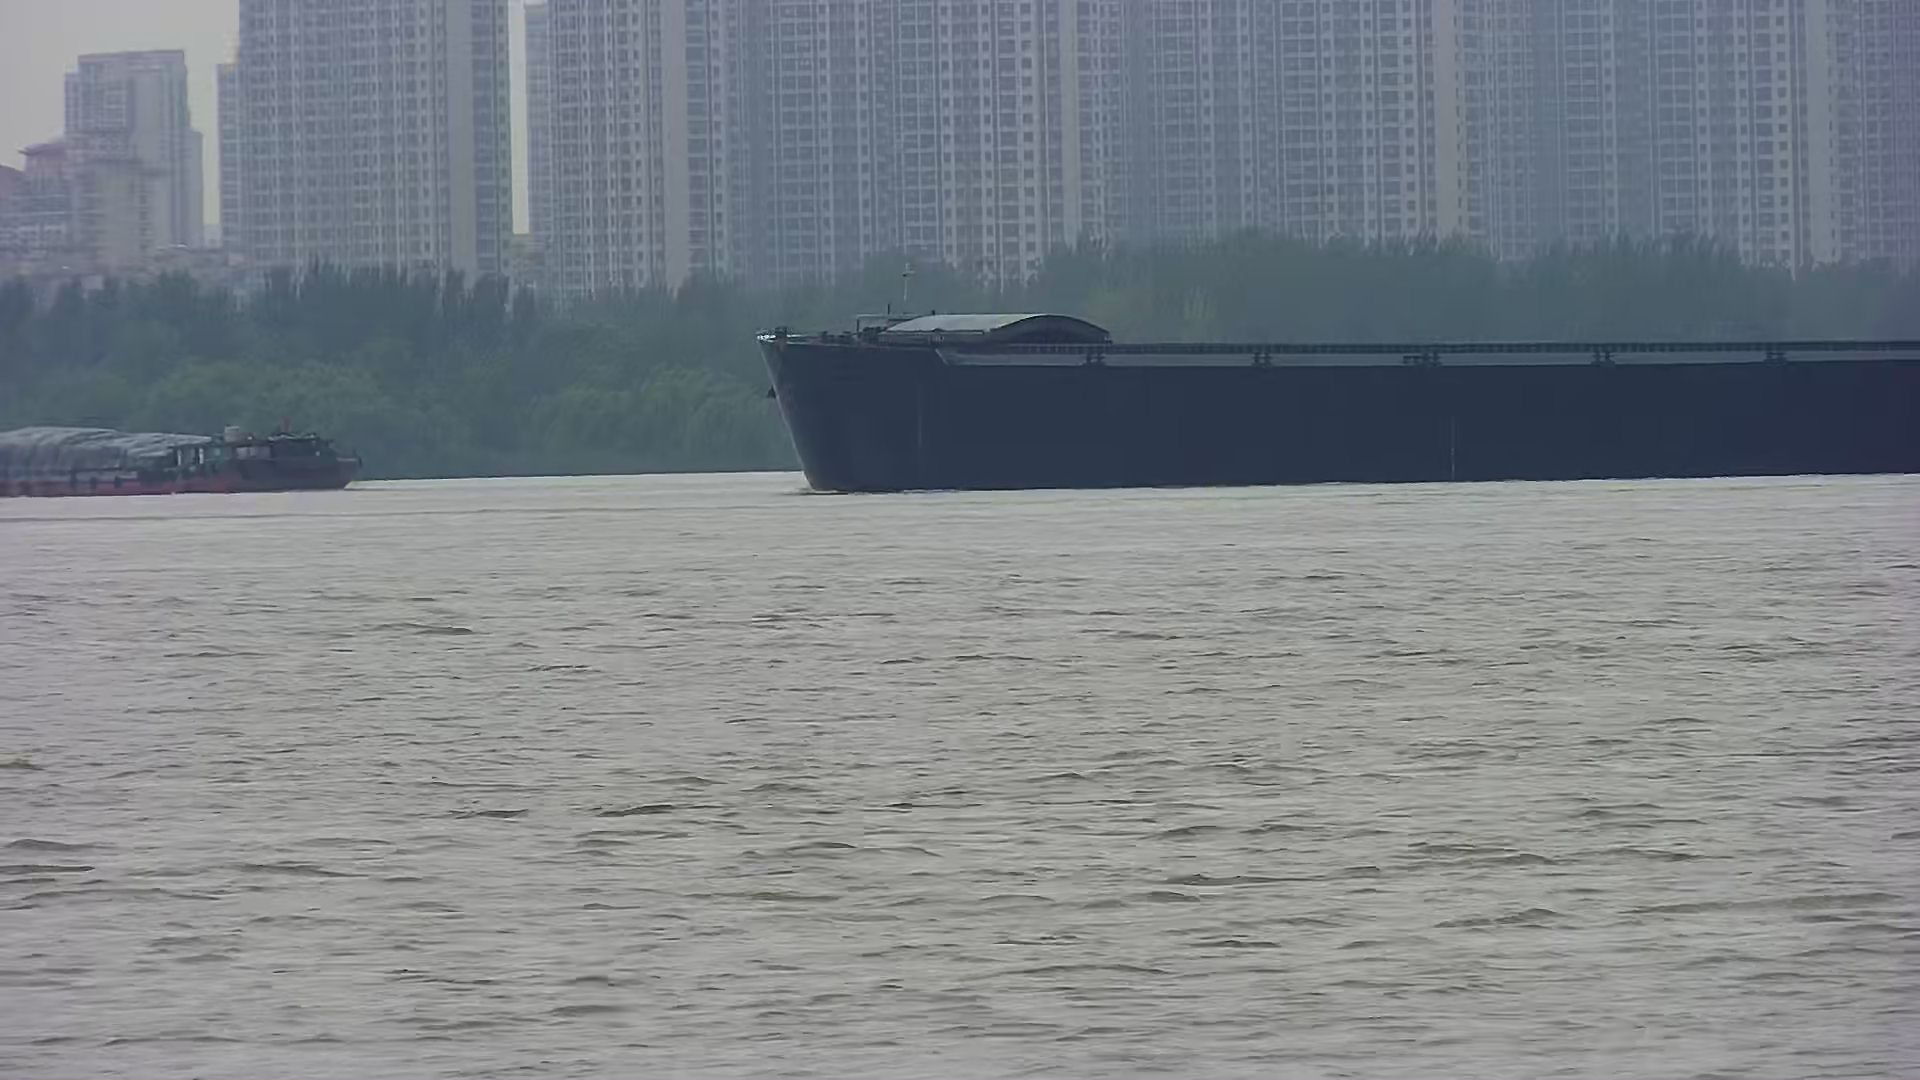ship: (756, 305, 1920, 496), (1, 417, 367, 500)
